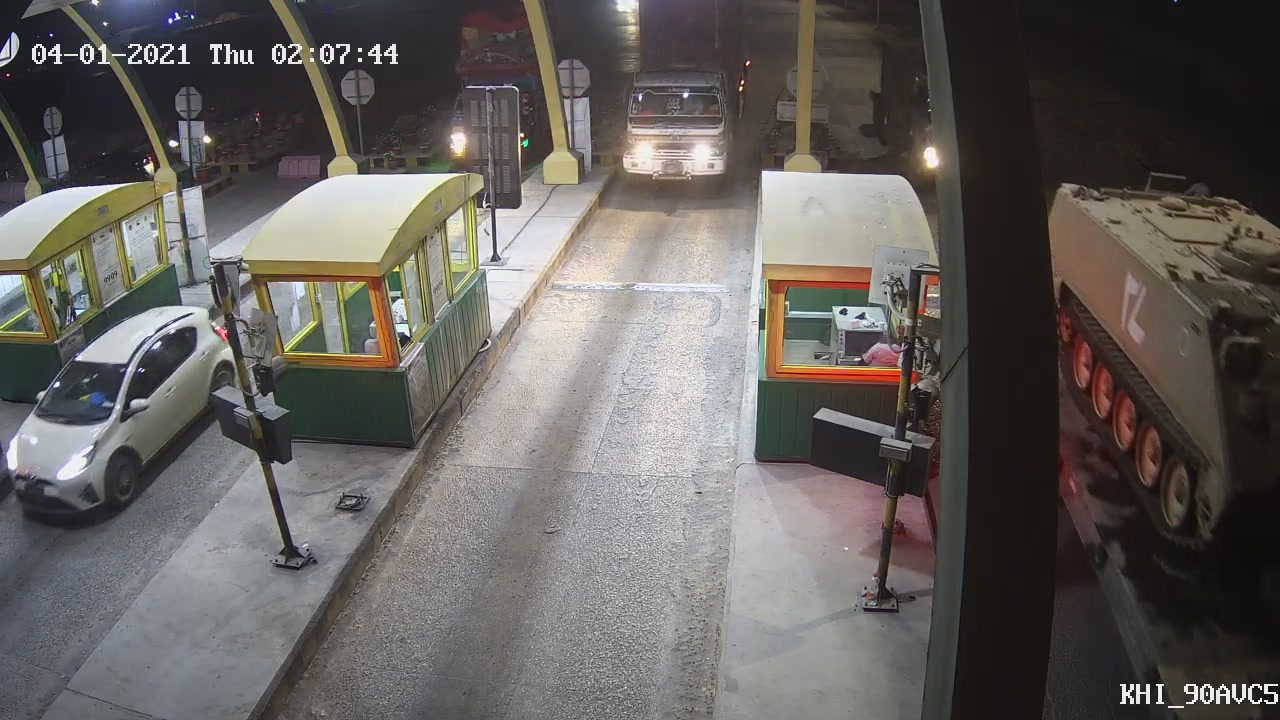F5: (618, 1, 755, 202)
